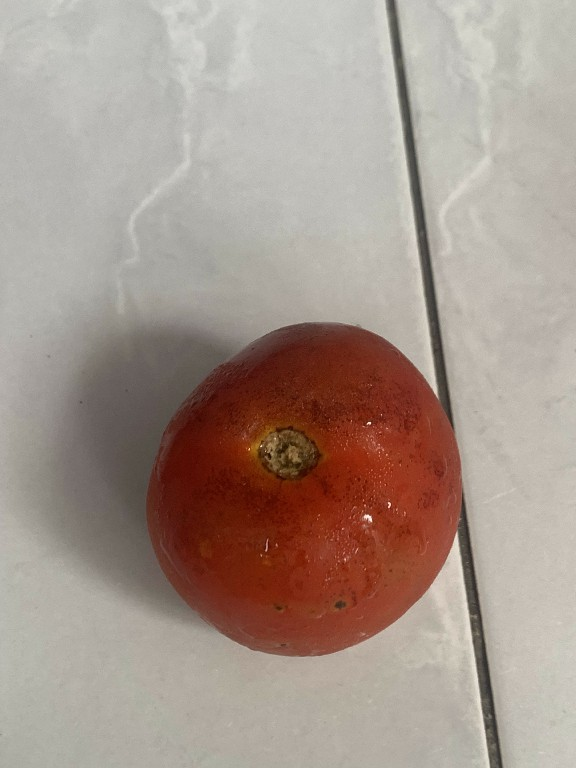NG: (129, 312, 498, 672)
